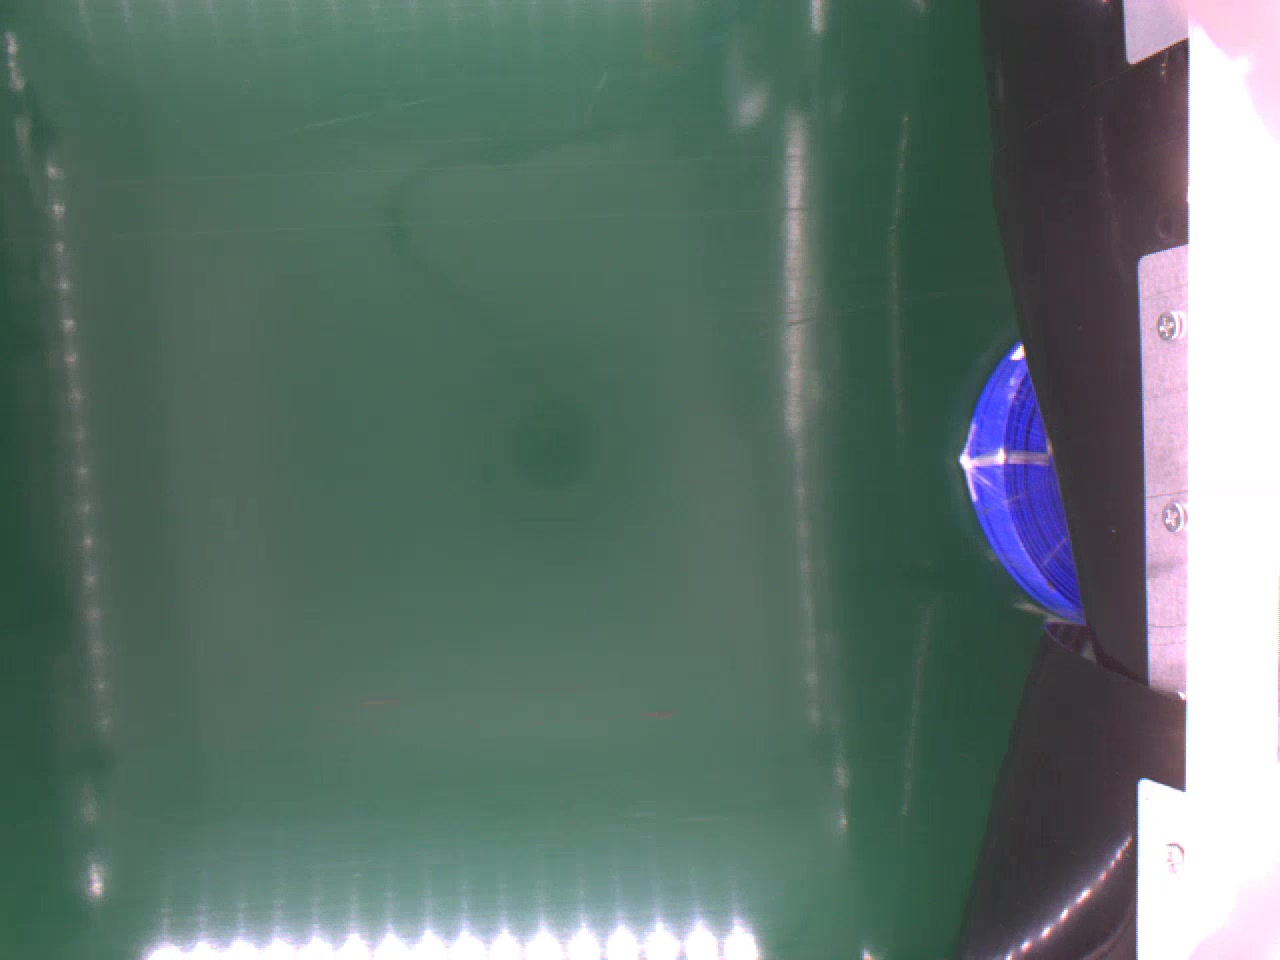blue: (962, 340, 1084, 626)
